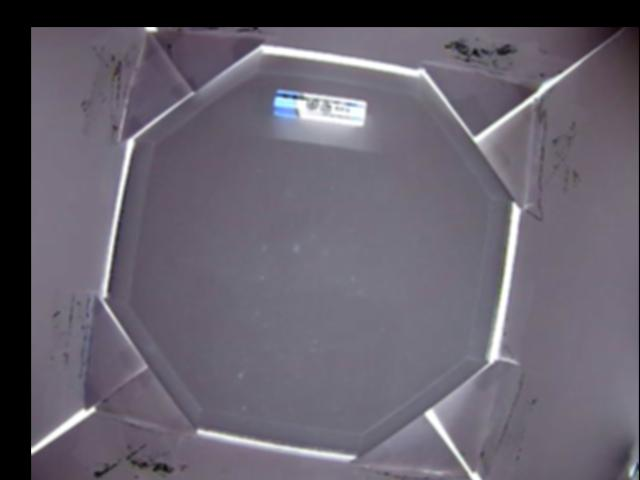Battery: (273, 87, 366, 125)
